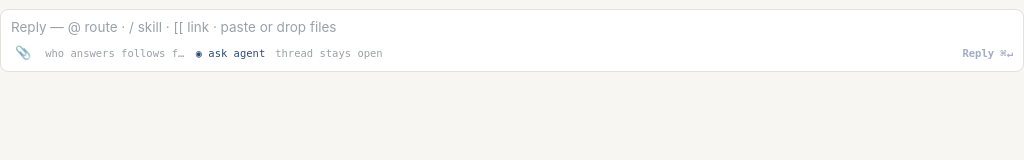
Scenario: ThreadComposer › opens the shared autocomplete on @
Replace the text in the text box labelled "Reply" with "@": {"x": 512, "y": 28} x1=11 y1=18 x2=1013 y2=38
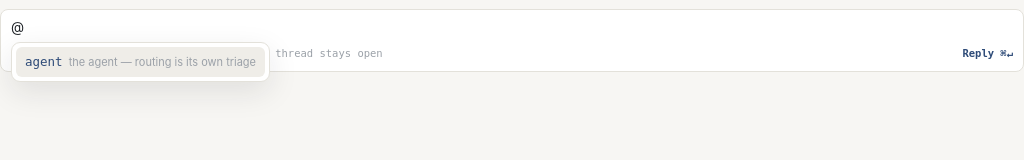
Now the list with class "ac-menu" is shown, box x1=11 y1=42 x2=270 y2=82
Now the text "agent" is shown, box x1=25 y1=54 x2=63 y2=69
